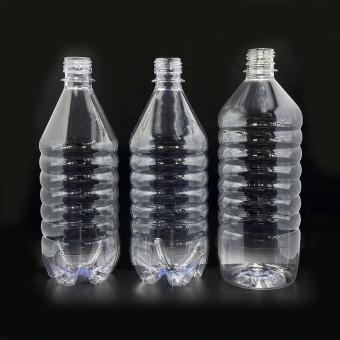bottle: (218, 49, 303, 290), (40, 56, 120, 287), (131, 57, 207, 287)
